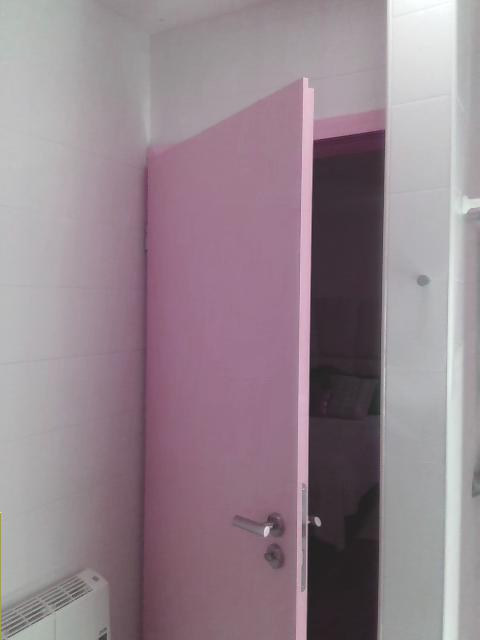semi_door: (137, 71, 387, 639)
